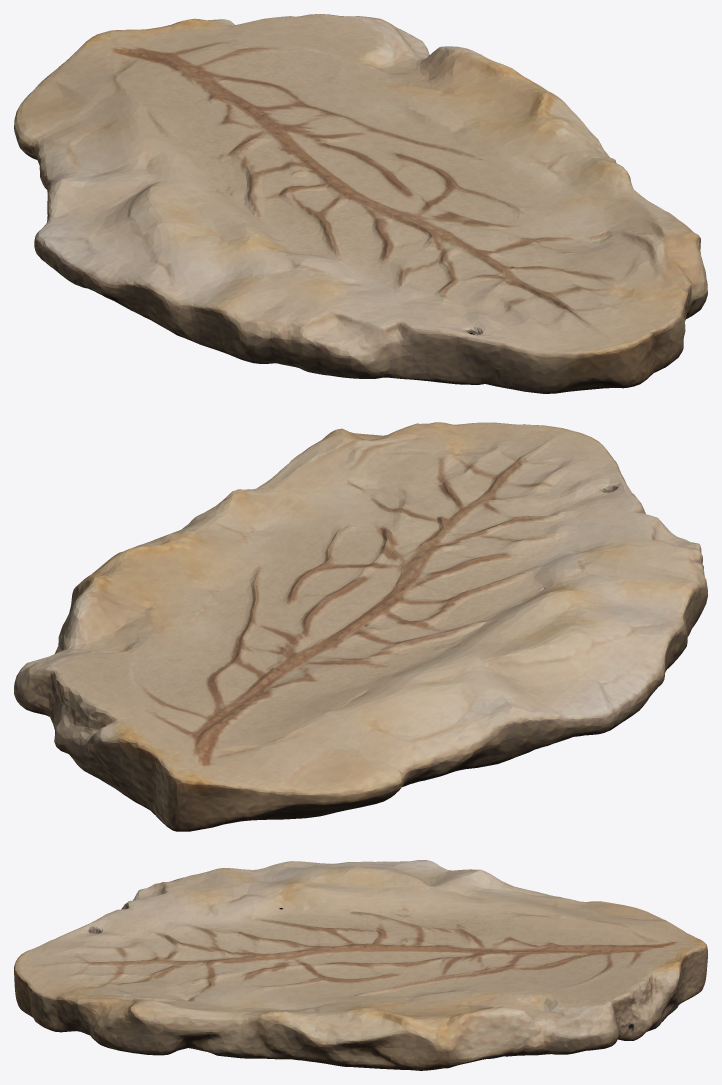
The picture shows the model from 3 angles, top to bottom: view 1: azimuth 30°, elevation 25°; view 2: azimuth 150°, elevation 25°; view 3: azimuth 270°, elevation 25°; orthographic projection. The views are drawn at different scales.
Visible parts, largest first — view 1: world; view 2: world; view 3: world.
Boxes of the visible parts, bbox=[...] form: world: bbox=[14, 14, 707, 393]; world: bbox=[14, 422, 707, 831]; world: bbox=[14, 860, 707, 1070].
Bounding box in the file's own units: 0.6638 × 0.1018 × 0.9991.
Materials: 1 (1 with a texture image).
